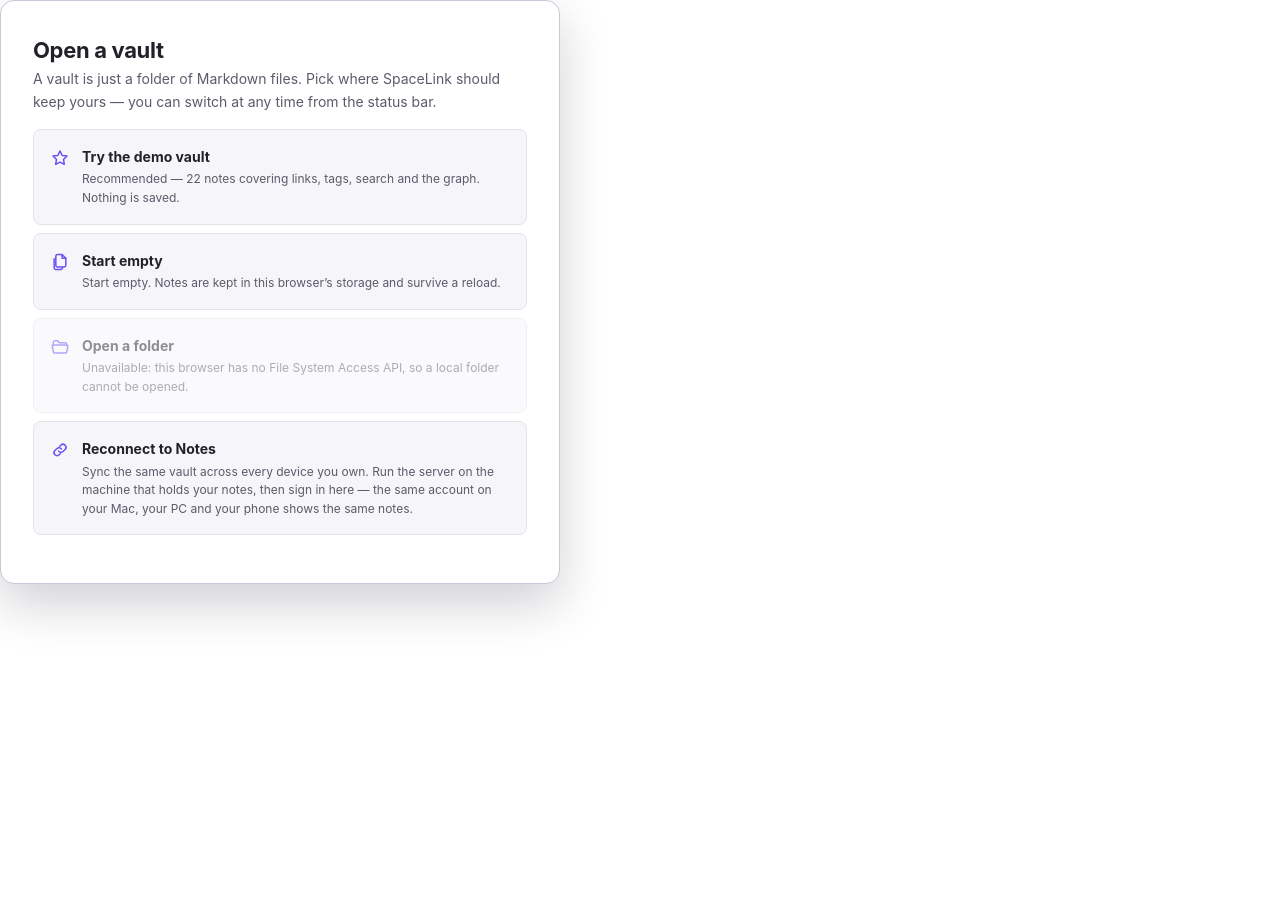
it: VaultPicker › signing in to a server › starts on the token form for a device that was paired with a token
Click the button that starts with "Reconnect to Notes". click: (280, 478)
box: top-left (33, 421), bottom-right (527, 535)
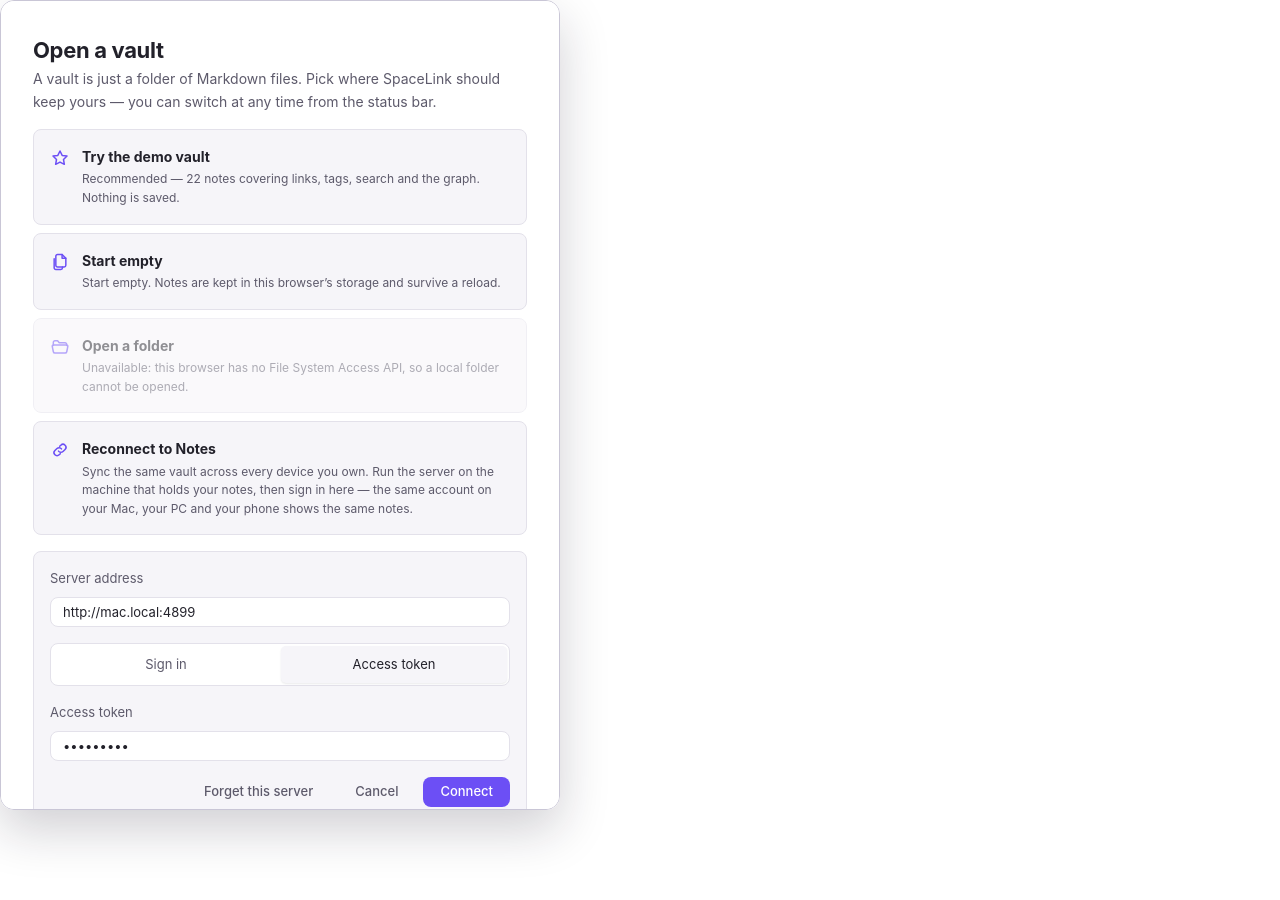
expect the password field labelled "Access token" is shown: met, box top-left (50, 731), bottom-right (510, 761)
